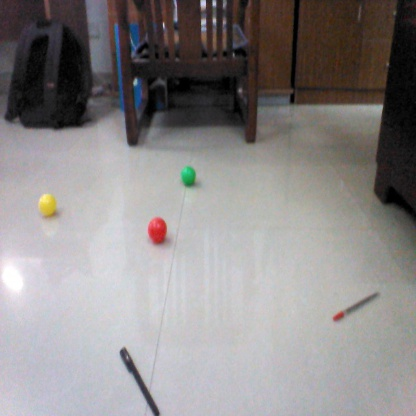ball: (177, 164, 201, 186), (147, 217, 167, 242), (36, 195, 59, 214)
pen: (119, 345, 163, 414), (333, 292, 379, 321)
